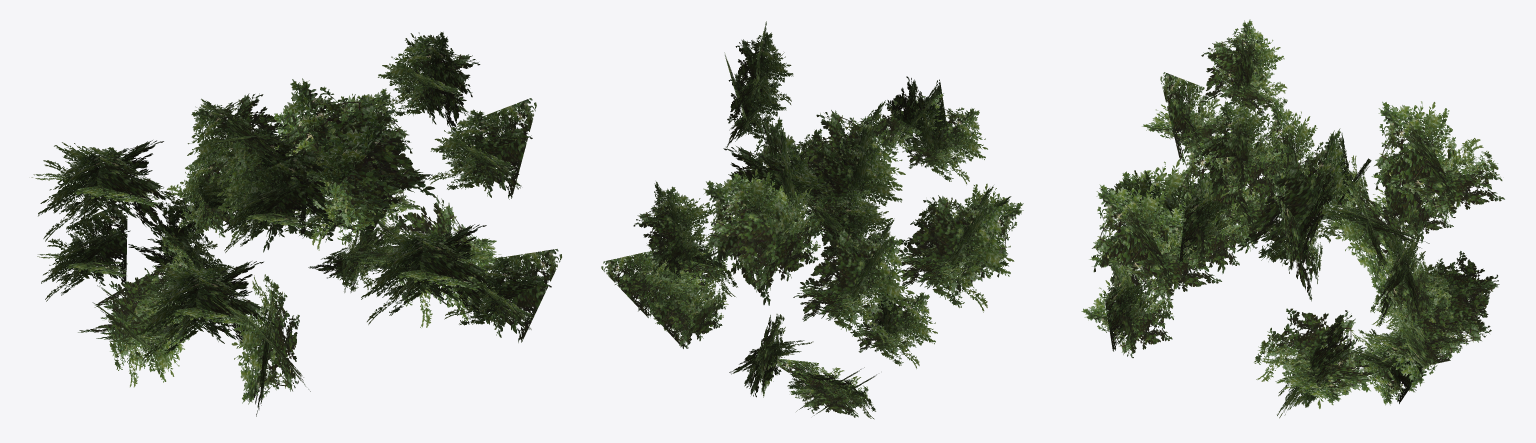
Rendered from Tree_Variant01_Leaves_LOD1.fbx.
3 renders of one model, left to right at view 1: azimuth 30°, elevation 25°; view 2: azimuth 150°, elevation 25°; view 3: azimuth 270°, elevation 25°, orthographic. The views are drawn at different scales.
Visible parts, largest first — view 1: Leaves_Var_01_LOD1; view 2: Leaves_Var_01_LOD1; view 3: Leaves_Var_01_LOD1.
Part boxes in pixels (x1=…): Leaves_Var_01_LOD1: x1=31, y1=32, x2=561, y2=416; Leaves_Var_01_LOD1: x1=601, y1=21, x2=1023, y2=419; Leaves_Var_01_LOD1: x1=1081, y1=19, x2=1504, y2=418.
Size of the model in its own units: 312 by 269 by 314.
